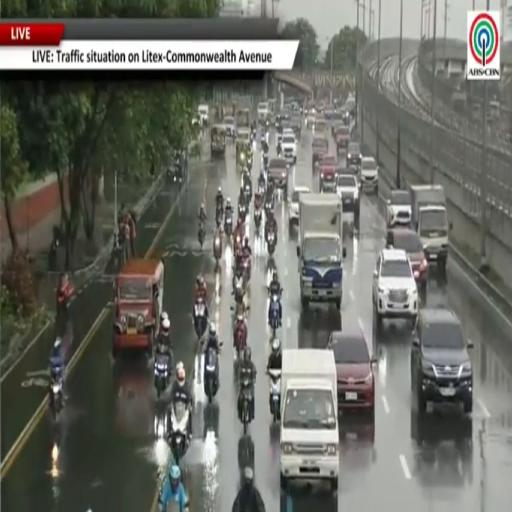car: (411, 309, 473, 413), (328, 330, 376, 414), (373, 249, 419, 328), (387, 229, 428, 293), (336, 173, 359, 229), (387, 189, 411, 228), (289, 186, 310, 228), (360, 157, 378, 194), (320, 154, 336, 191), (281, 129, 297, 164), (312, 136, 328, 170), (333, 125, 350, 152), (347, 142, 362, 167), (223, 117, 236, 137), (198, 105, 209, 125), (258, 102, 269, 122)
jeepney: (113, 260, 163, 358), (113, 362, 166, 437), (236, 127, 252, 168), (211, 125, 226, 155), (236, 108, 250, 127)
motorcycle: (170, 403, 190, 465), (240, 378, 254, 435), (204, 348, 218, 403), (154, 352, 170, 398), (268, 370, 281, 422), (49, 373, 62, 420), (234, 326, 246, 376), (194, 297, 208, 339), (268, 295, 280, 335), (234, 277, 244, 303), (213, 236, 222, 263), (243, 256, 251, 282), (198, 221, 205, 250), (267, 232, 275, 256), (216, 203, 223, 225), (265, 199, 274, 216), (234, 231, 242, 250), (225, 216, 232, 237), (254, 210, 261, 231), (245, 181, 251, 203), (239, 203, 246, 218), (247, 154, 253, 170), (262, 153, 268, 168), (261, 131, 266, 146)
truck: (280, 349, 339, 491), (297, 192, 346, 309), (410, 185, 450, 270)
